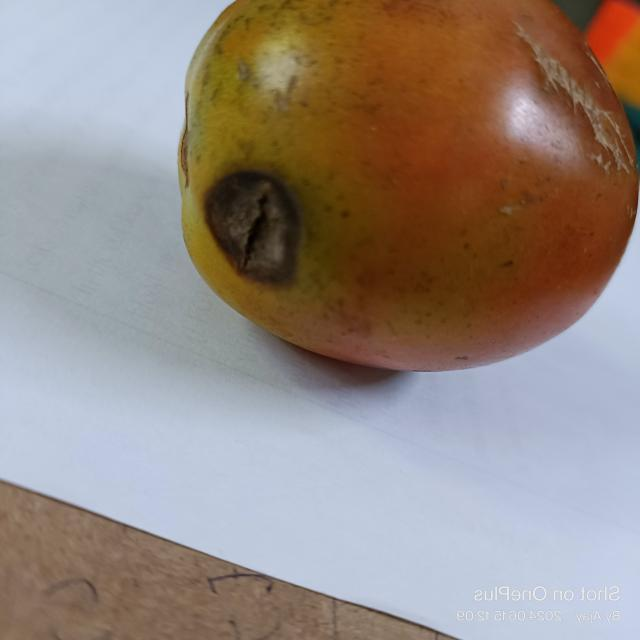Anthrocnose: (207, 165, 300, 288)
